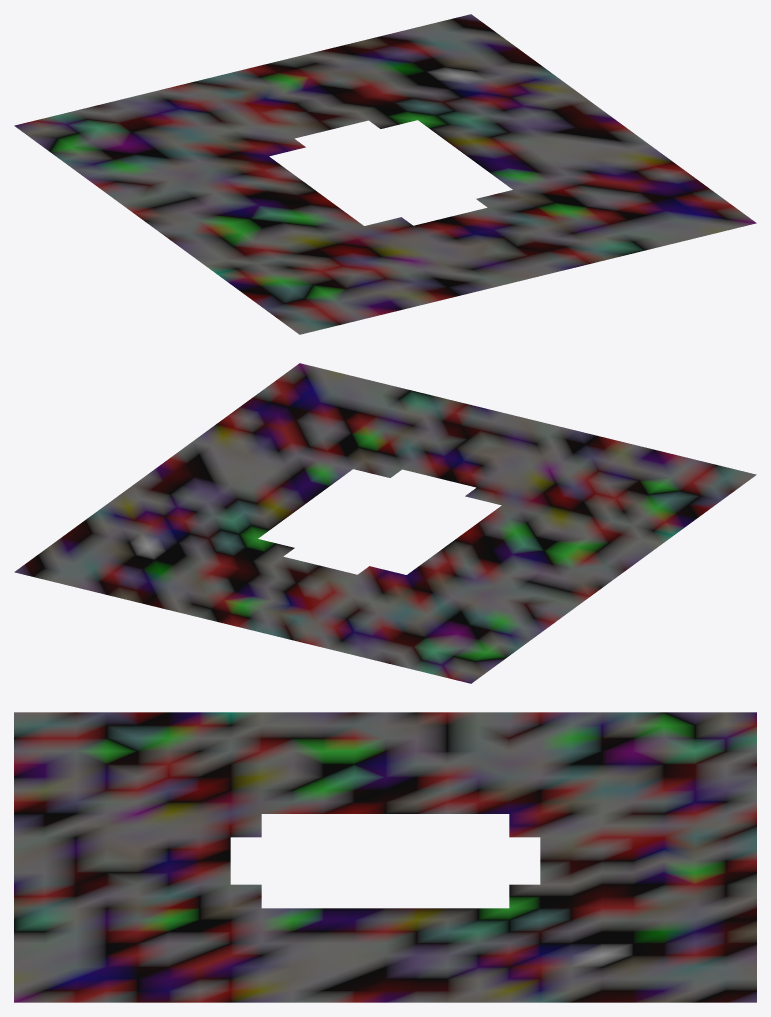
Rendered from CS_Grounds_Floor01.gltf.
3 renders of one model, top to bottom at view 1: azimuth 30°, elevation 25°; view 2: azimuth 150°, elevation 25°; view 3: azimuth 270°, elevation 25°, orthographic. The views are drawn at different scales.
Parts seen in each view (by area): view 1: CS_Grounds_Floor01; view 2: CS_Grounds_Floor01; view 3: CS_Grounds_Floor01.
Part boxes in pixels (box(x1,y1,x2,y2)): CS_Grounds_Floor01: box(14, 14, 756, 334); CS_Grounds_Floor01: box(14, 363, 756, 683); CS_Grounds_Floor01: box(14, 712, 756, 1002).
Size of the model in its own units: 327 by 0 by 354.
